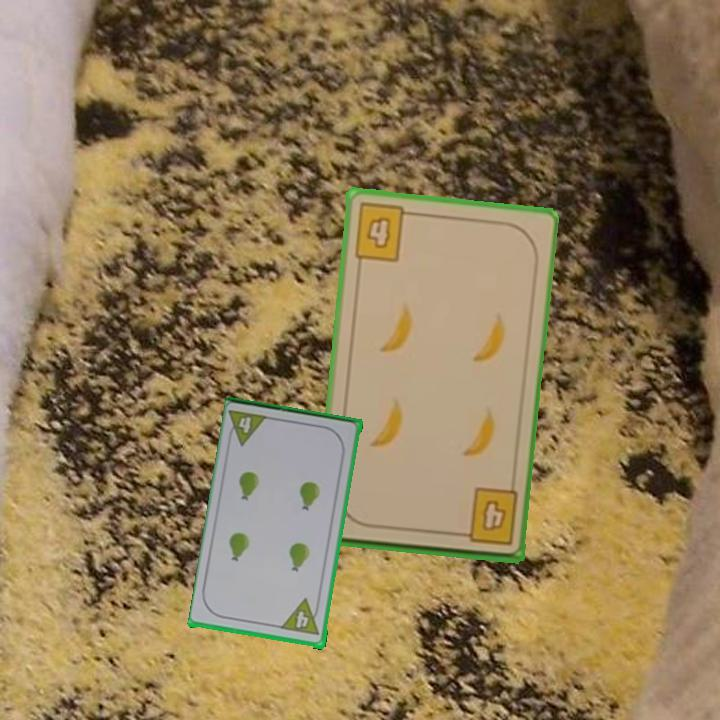4b: (350, 199, 417, 265), (452, 484, 521, 548)
4p: (224, 406, 272, 449), (278, 596, 323, 639)
